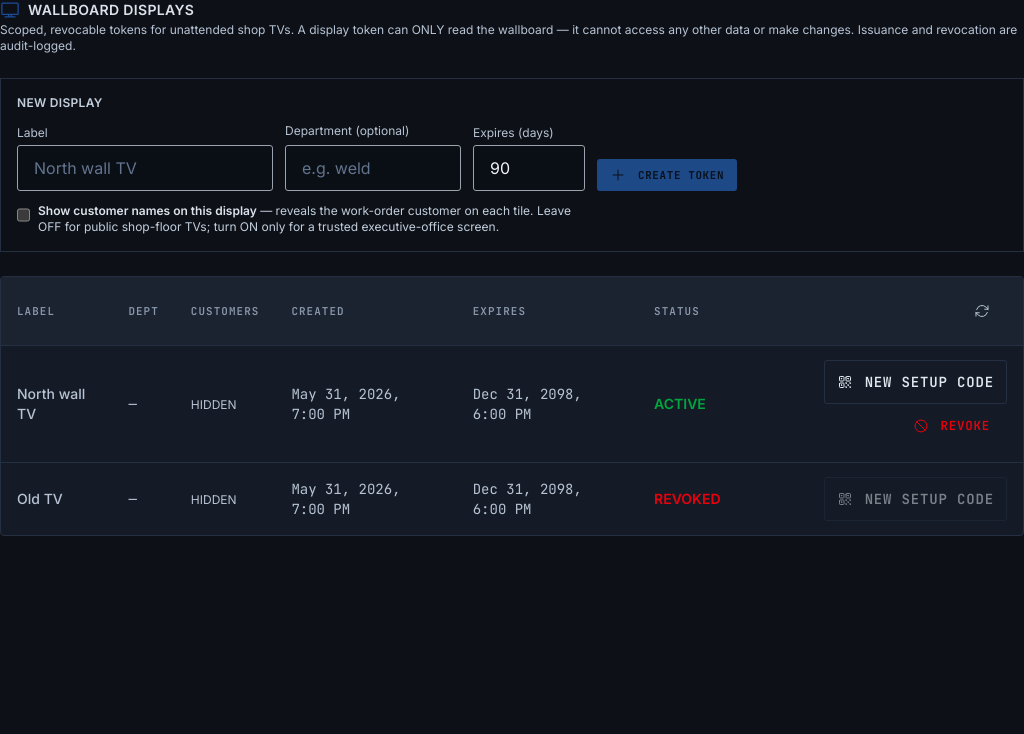
Scenario: DisplayTokensTab › re-issues a setup code for a row and shows it in the one-time panel (no JWT/URL)
Check: the text "North wall TV" is shown, box [1,346,112,462]
Click the button with test id "new-code-1" at (915,382), box [824,360,1007,404]
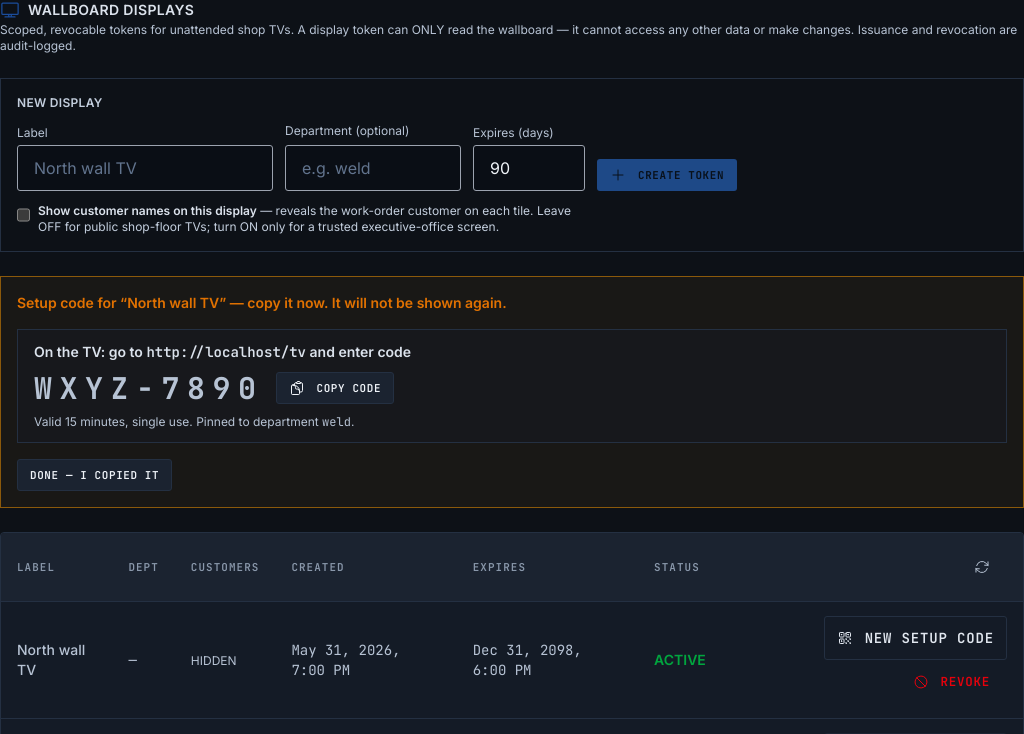
Check: the element with test id "issued-panel" shows "will not be shown again", box [219,294,507,311]
Check: the text with test id "issued-setup-code" reads "WXYZ-7890", box [34,368,264,408]
